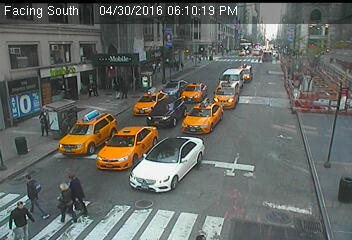neg: (139, 146, 185, 208), (13, 2, 54, 57), (68, 8, 102, 54), (239, 42, 265, 76), (242, 88, 267, 121), (310, 51, 329, 77)
pos: (7, 201, 33, 236)
